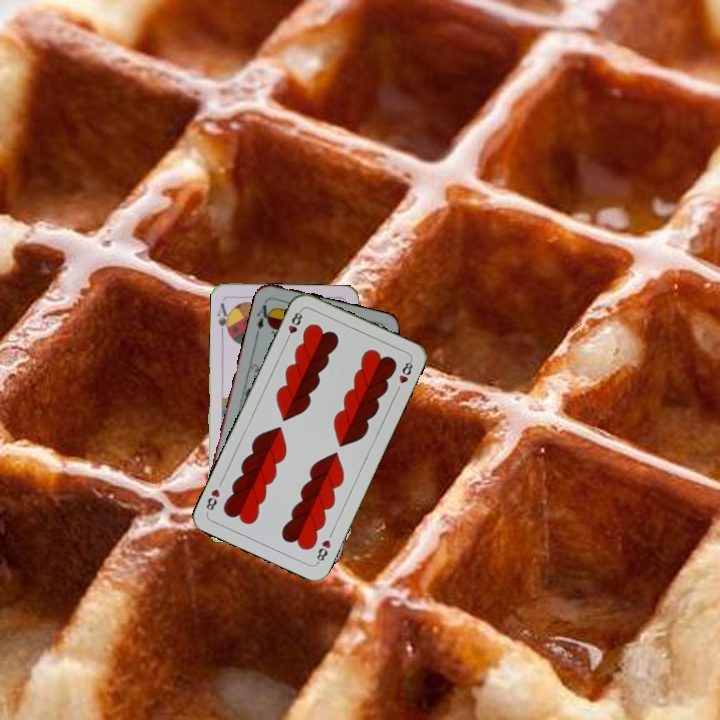EA: (253, 297, 275, 332)
H8: (282, 306, 305, 344), (312, 535, 333, 566)
SA: (213, 299, 233, 338)
